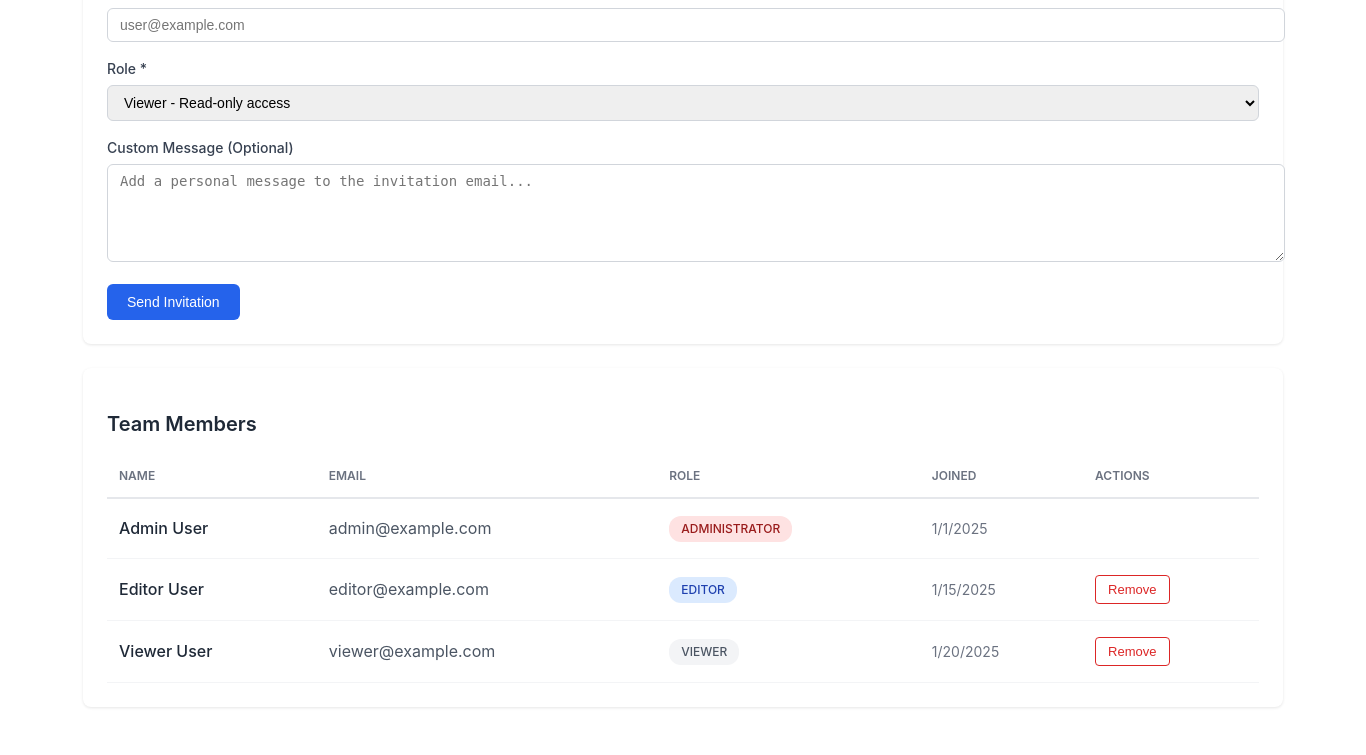
Test: SettingsPage Integration Tests › Remove User Workflow › removes user after confirmation
(page scrolled)
Expected: the text "Editor User" is shown, top-left (119, 579), bottom-right (204, 599)
Note: Find remove buttons (current user won't have one)
Click the button "Remove" in the row of "Editor User". click: (1132, 589)
box: top-left (1095, 575), bottom-right (1170, 604)
(page scrolled)
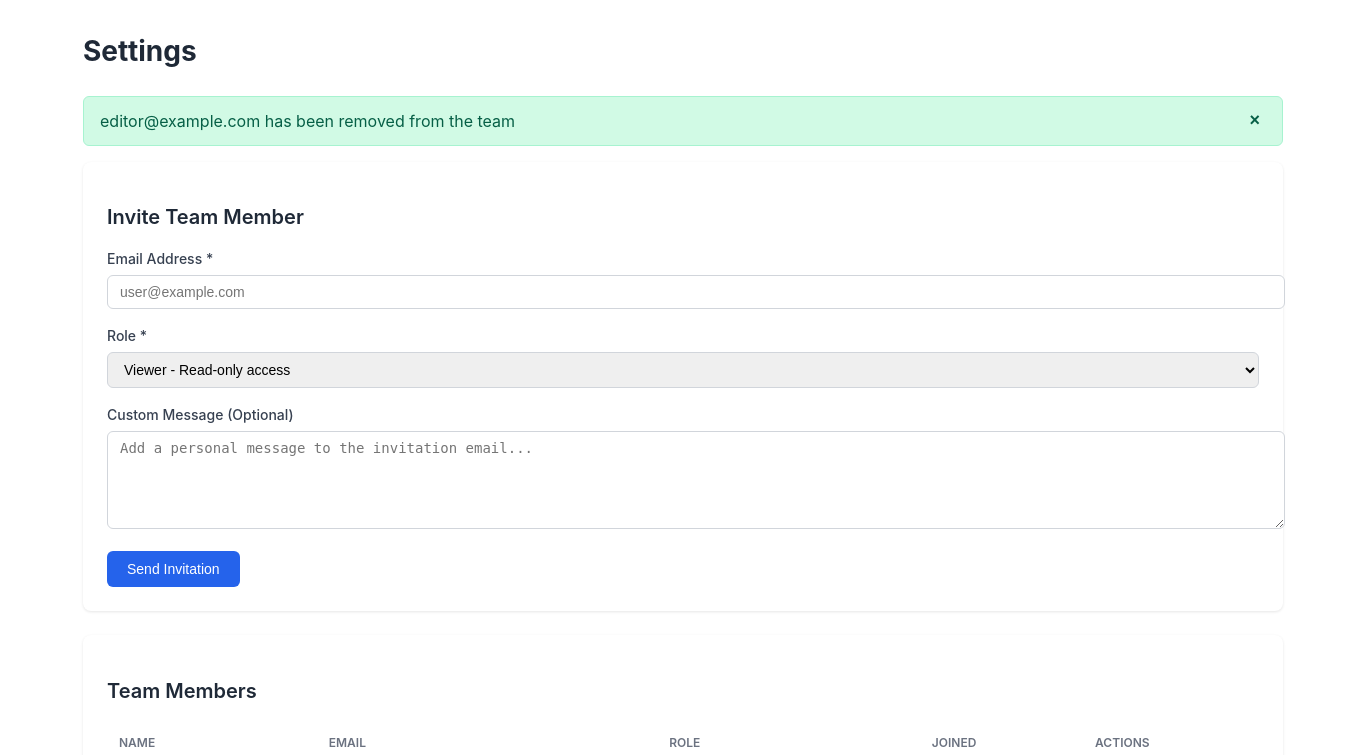
Result: the text "editor@example.com has been removed from the team" is shown at top-left (100, 109), bottom-right (515, 133)
